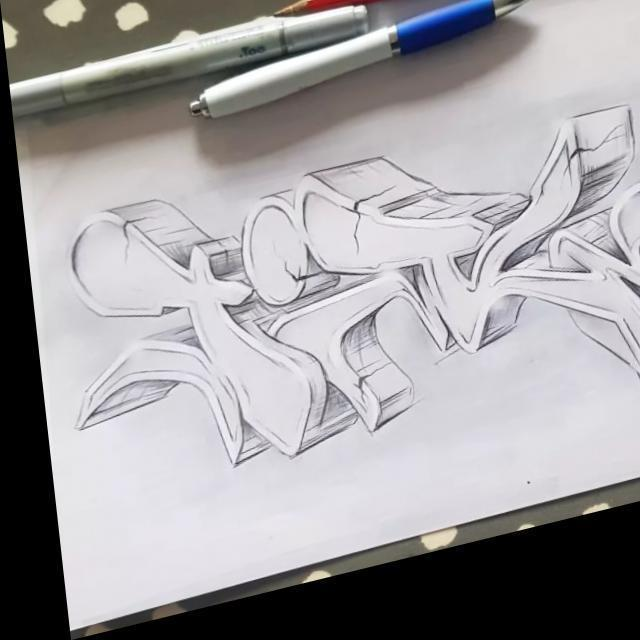nonspitting: (71, 101, 640, 467)
